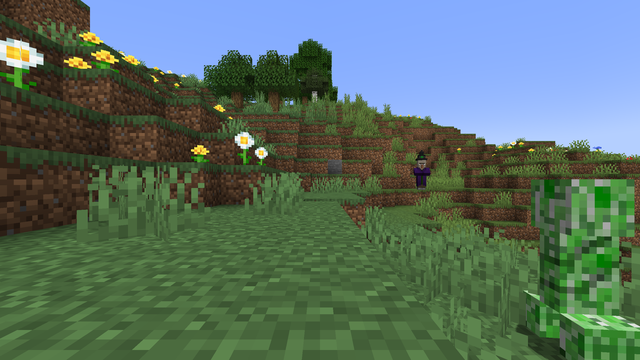creepers: (521, 170, 628, 356)
sorcieres: (414, 158, 427, 188)
